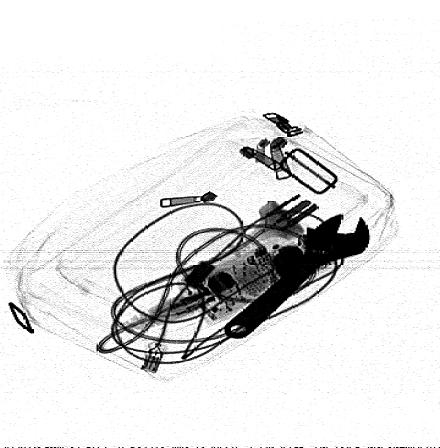Wrench: (221, 210, 370, 340)
